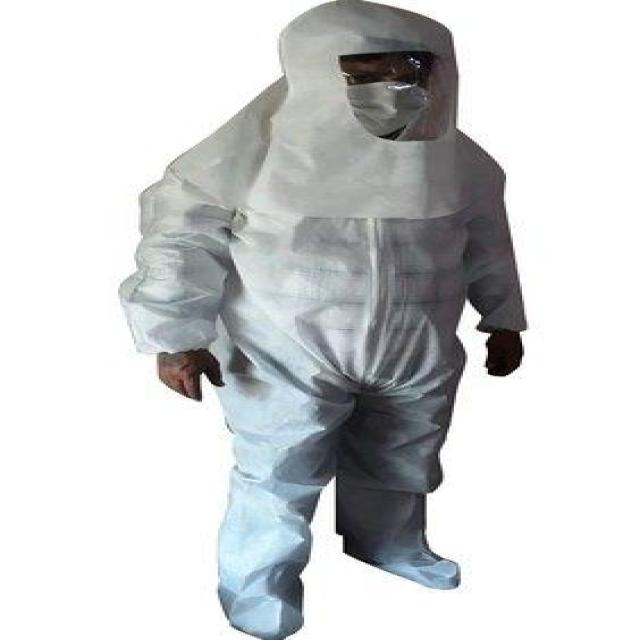Coverall: (114, 0, 540, 640)
Mask: (348, 82, 434, 134)
